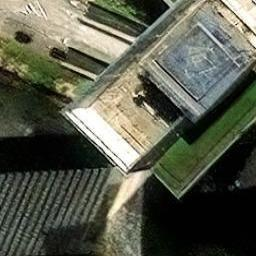heliponto: (155, 23, 238, 100)
